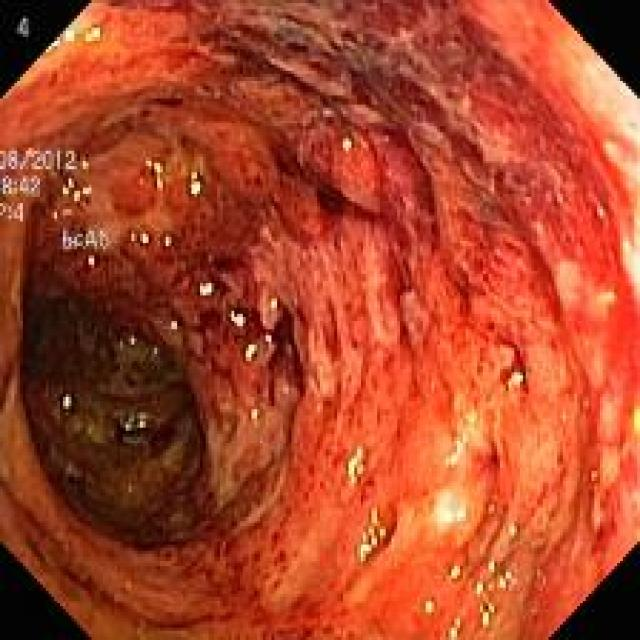ulcerative-colitis-grade-3: (0, 3, 640, 638)
